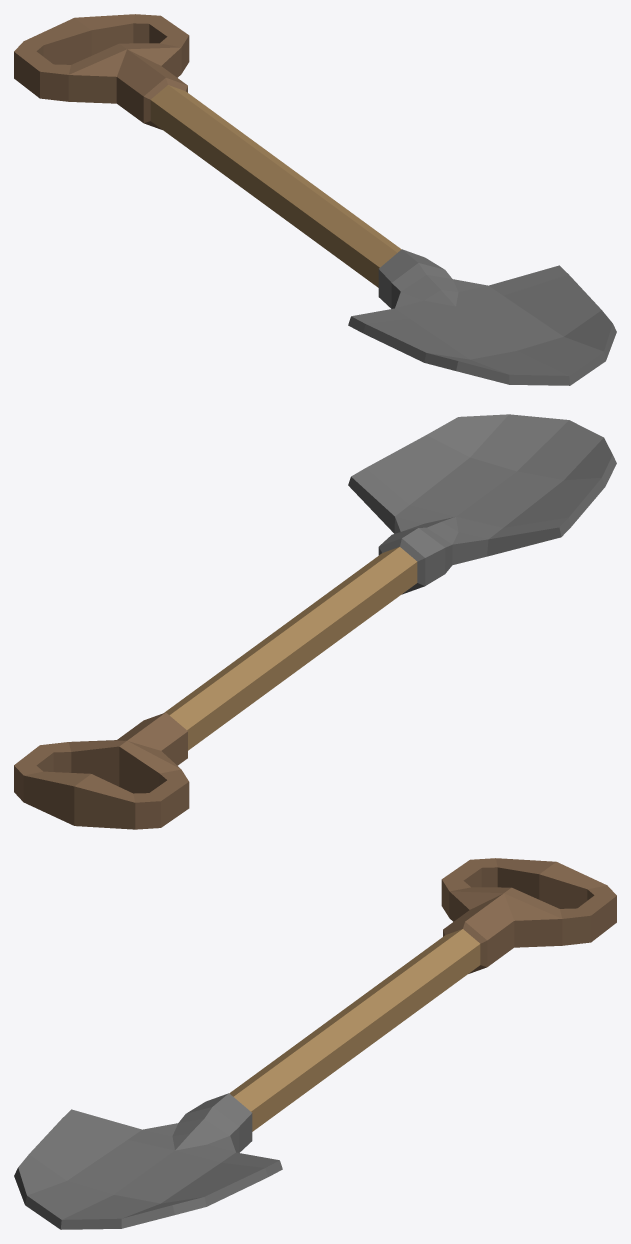
File: shovel.fbx
The picture shows the model from 3 angles, top to bottom: view 1: azimuth 30°, elevation 25°; view 2: azimuth 150°, elevation 25°; view 3: azimuth 330°, elevation 25°; orthographic projection.
Parts seen in each view (by area): view 1: Shovel; view 2: Shovel; view 3: Shovel.
Part boxes in pixels (x1,y1,x2,y2): Shovel: (14, 14, 616, 385); Shovel: (14, 414, 616, 829); Shovel: (14, 858, 616, 1229).
Bounding box in the file's own units: 27.32 × 7.47 × 110.
